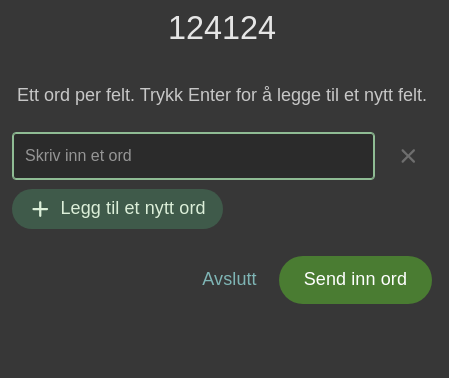
Test: WordsInput component › when clicking "legg til et nytt ord", then one additional input is visible
Expected: the number of fields with placeholder "Skriv inn et ord" is 1, [12,132,375,180]
Click the button "Legg til et nytt ord" at {"x": 117, "y": 208}, box [12,188,223,228]
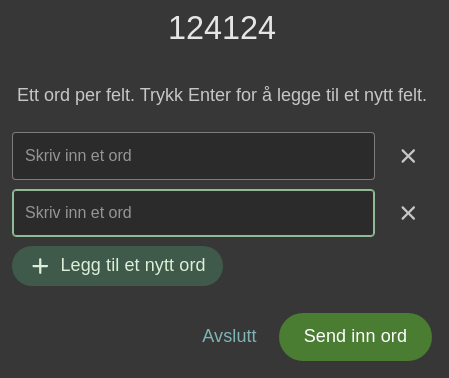
Now the number of fields with placeholder "Skriv inn et ord" is 2, box [12,132,375,180]; [12,188,375,236]
